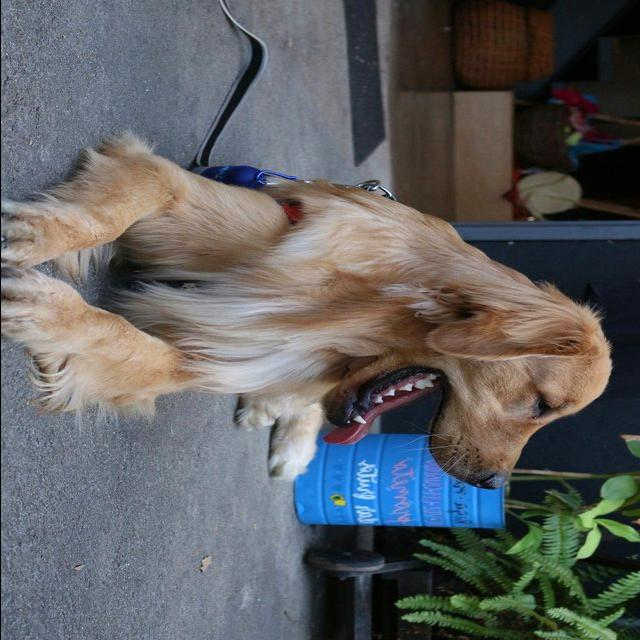retriever: (2, 131, 614, 492)
